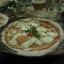pizza: (4, 17, 59, 56)
